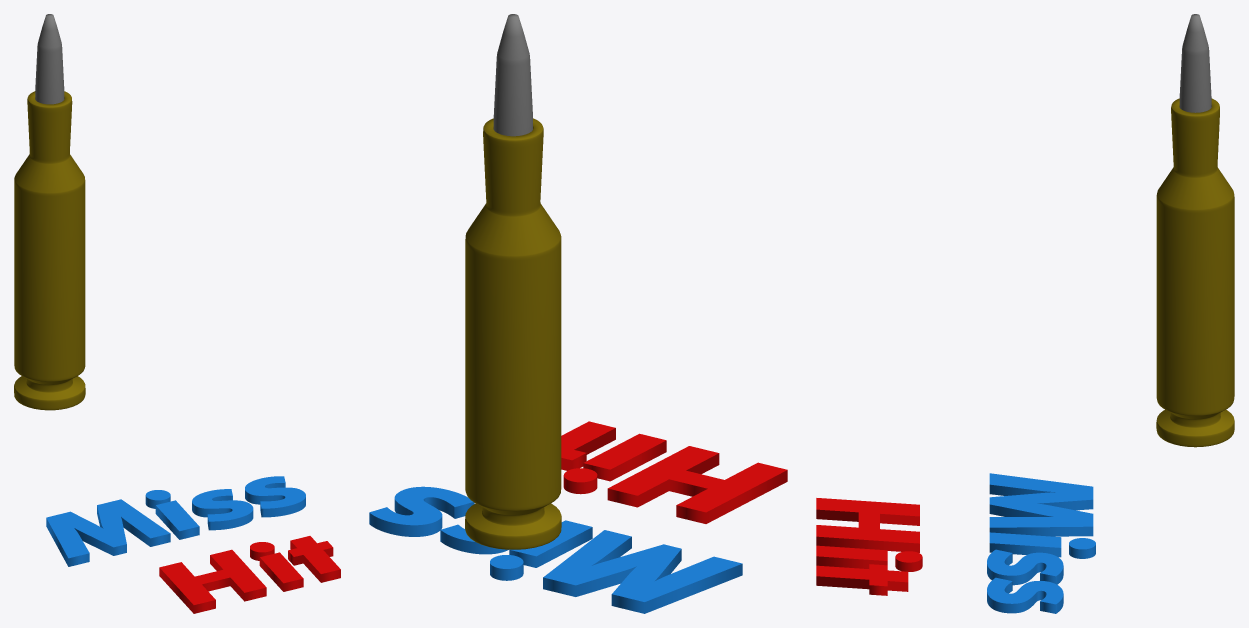
Rendered from kaan .fbx.
3 views of the same model, side by side, from view 1: azimuth 30°, elevation 25°; view 2: azimuth 150°, elevation 25°; view 3: azimuth 270°, elevation 25° (orthographic). The views are drawn at different scales.
Visible parts, largest first — view 1: mermi, Text, Text.001; view 2: mermi, Text, Text.001; view 3: mermi, Text, Text.001.
Boxes of the visible parts, left/top/right/bottom form: mermi: left=14, top=14, right=85, bottom=410; Text: left=46, top=476, right=305, bottom=566; Text.001: left=159, top=536, right=340, bottom=613; mermi: left=465, top=14, right=561, bottom=549; Text: left=369, top=486, right=742, bottom=613; Text.001: left=561, top=421, right=787, bottom=523; mermi: left=1156, top=14, right=1234, bottom=447; Text: left=987, top=473, right=1095, bottom=613; Text.001: left=816, top=498, right=922, bottom=595.
Size of the model in its own units: 177 by 320 by 239.
